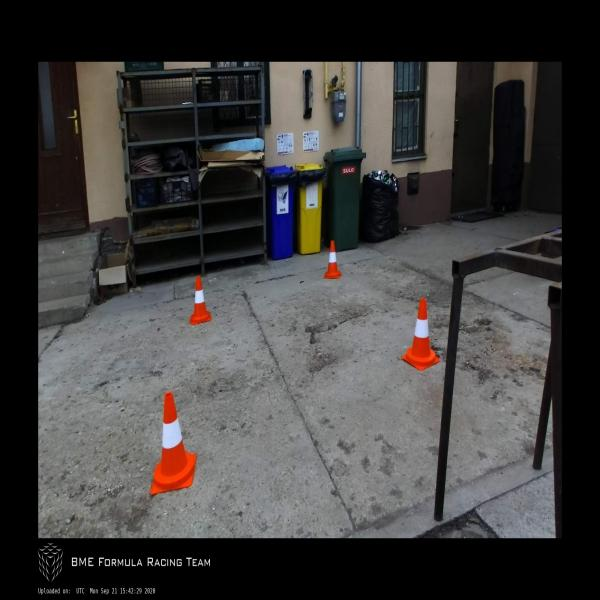orange_cone: (151, 392, 197, 495), (402, 298, 440, 371), (190, 276, 212, 324), (324, 241, 342, 279)
